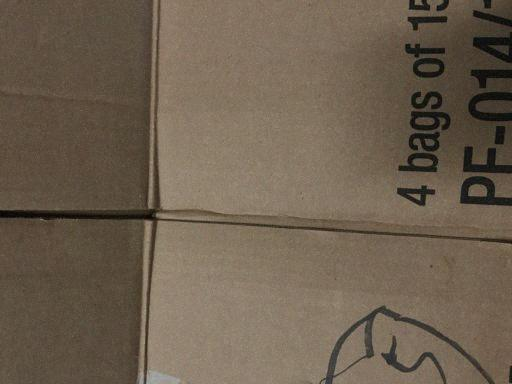cardboard: (0, 6, 512, 383)
